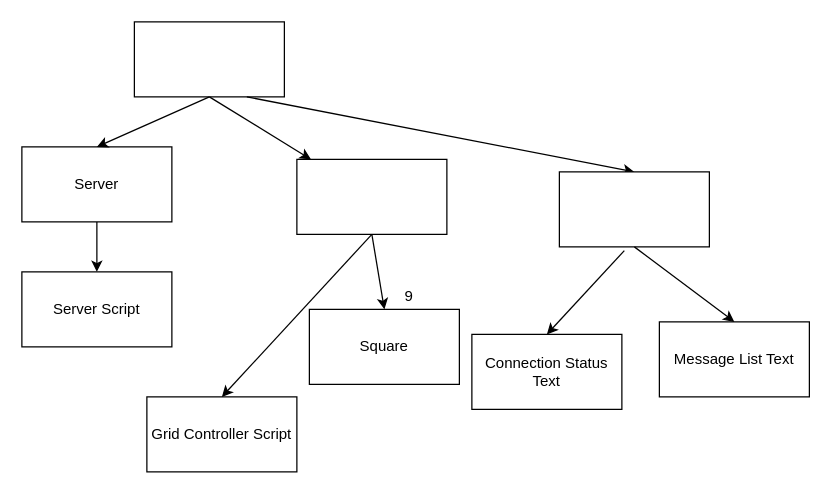
Image size: 831x494. Some labels were removed from this diagram. Each missing label, with the centre of its shape:
"Canvas" belongs at point 633,209.
"Grid" belongs at point 371,196.
"Server Application" belongs at point 208,59.
